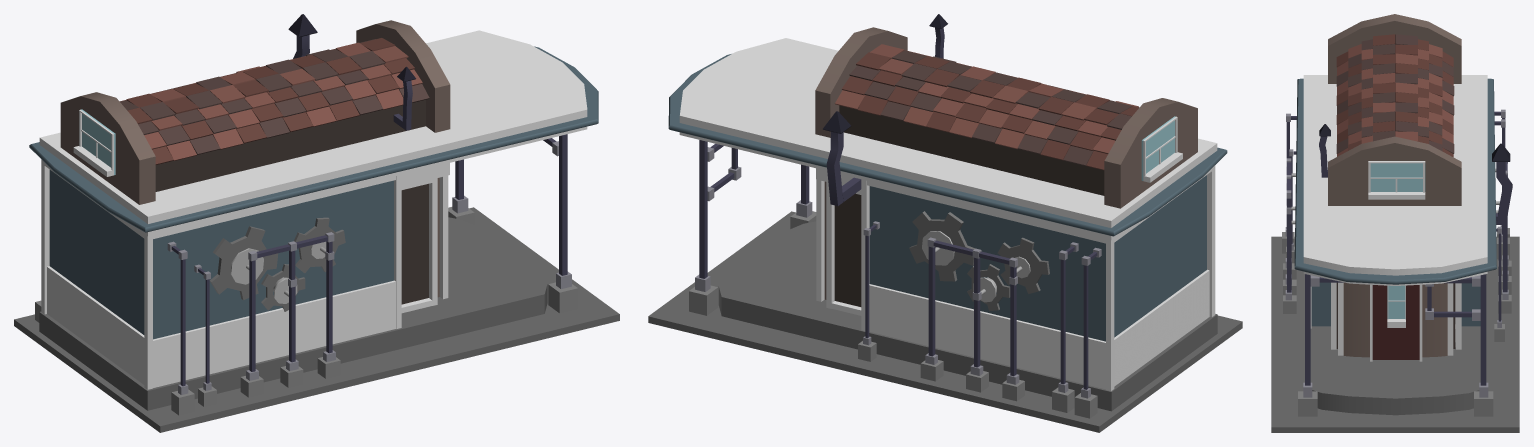
File: Props_TouristBooth.fbx
3 renders of one model, left to right at view 1: azimuth 30°, elevation 25°; view 2: azimuth 150°, elevation 25°; view 3: azimuth 270°, elevation 25°, orthographic. The views are drawn at different scales.
Visible parts, largest first — view 1: pCube302; view 2: pCube302; view 3: pCube302.
Boxes of the visible parts, x1,y1,x2,y2 form: pCube302: (14, 14, 619, 432); pCube302: (648, 14, 1242, 432); pCube302: (1271, 14, 1519, 432).
Size of the model in its own units: 2879 by 1528 by 1471.
